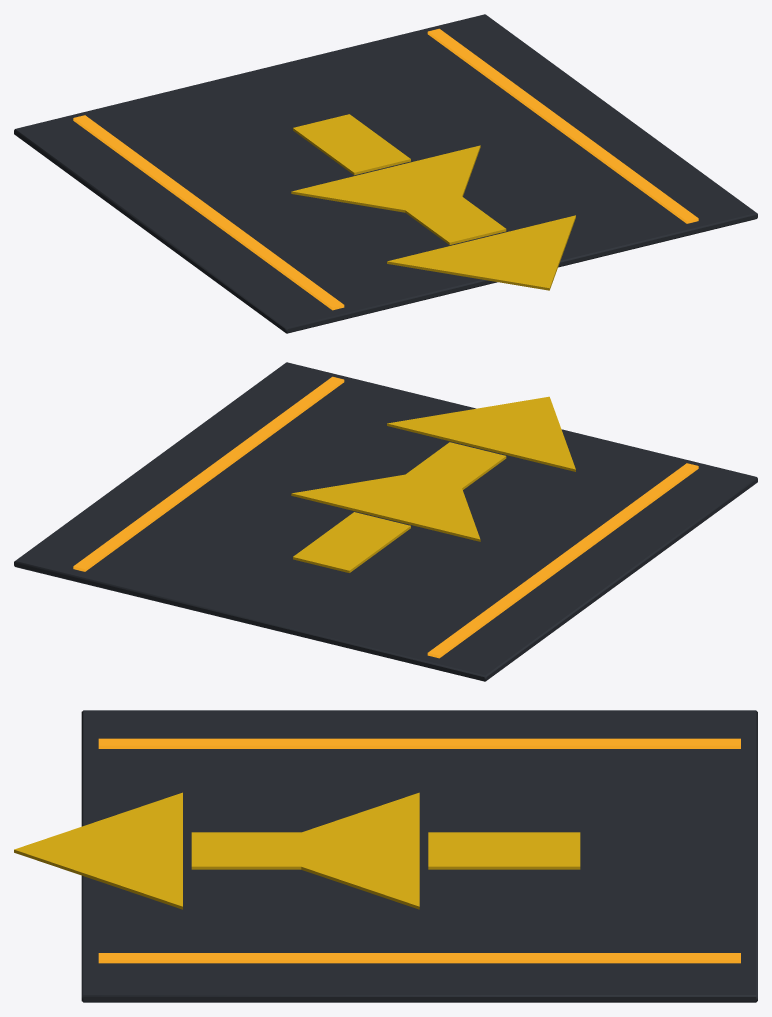
File: floorpanel_arrow_marking_2x2.glb
3 renders of one model, top to bottom at view 1: azimuth 30°, elevation 25°; view 2: azimuth 150°, elevation 25°; view 3: azimuth 270°, elevation 25°, orthographic. The views are drawn at different scales.
Visible parts, largest first — view 1: floorpanel_arrow_marking_2x2; view 2: floorpanel_arrow_marking_2x2; view 3: floorpanel_arrow_marking_2x2.
Part boxes in pixels (box(x1,y1,x2,y2)): floorpanel_arrow_marking_2x2: box(14, 14, 757, 333); floorpanel_arrow_marking_2x2: box(14, 362, 757, 681); floorpanel_arrow_marking_2x2: box(14, 710, 757, 1002).
Bounding box in the file's own units: 2 × 0.036 × 2.2.
